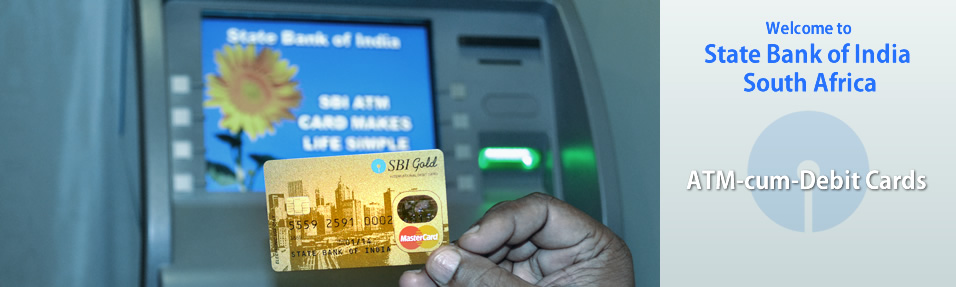tarjeta: (262, 146, 453, 273)
